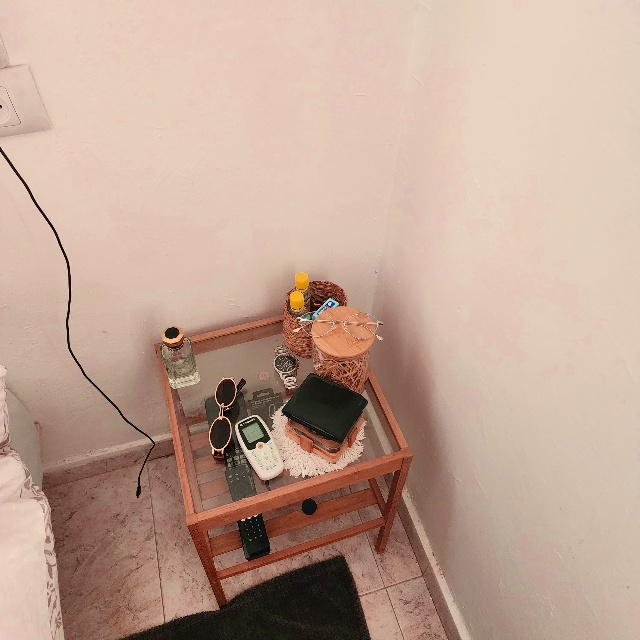glasses: (205, 375, 245, 463), (296, 310, 389, 345)
